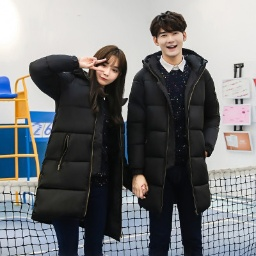face: (88, 45, 127, 95), (148, 11, 190, 57)
